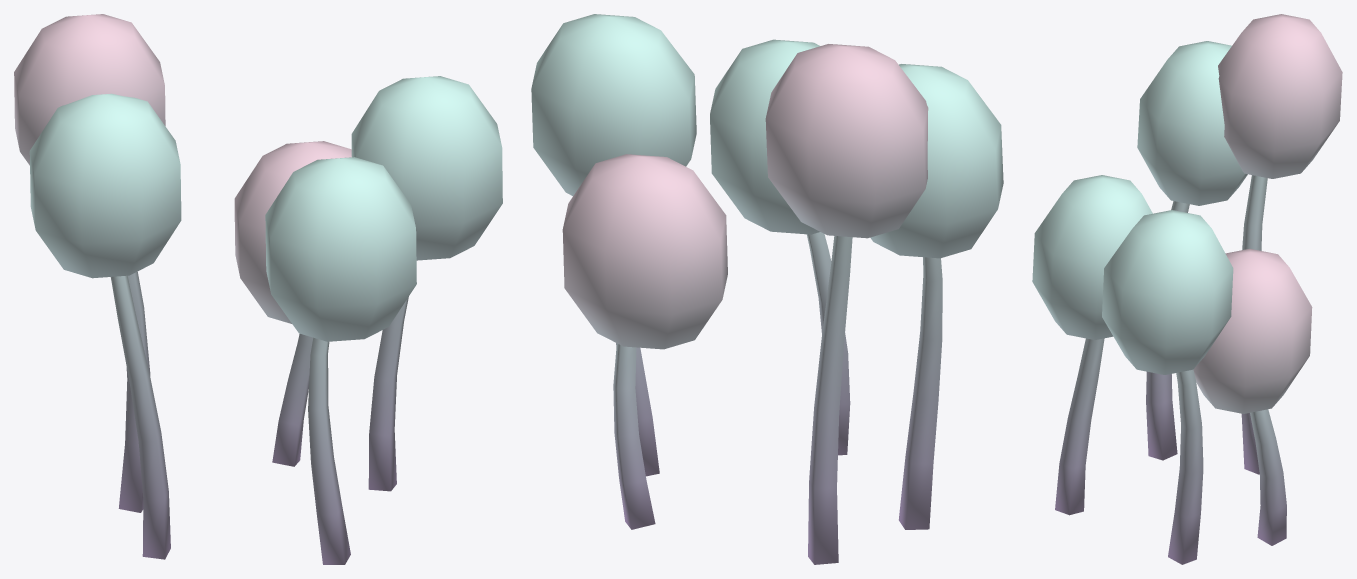
File: pearl-cluster.glb
3 views of the same model, side by side, from view 1: azimuth 30°, elevation 25°; view 2: azimuth 150°, elevation 25°; view 3: azimuth 270°, elevation 25° (orthographic). The views are drawn at different scales.
Parts seen in each view (by area): view 1: pearl-cluster; view 2: pearl-cluster; view 3: pearl-cluster.
Boxes of the visible parts, x1,y1,x2,y2 form: pearl-cluster: (14,14,502,564); pearl-cluster: (531,14,1003,564); pearl-cluster: (1032,14,1342,564).
Bounding box in the file's own units: 1.41 × 1.49 × 0.9586.
